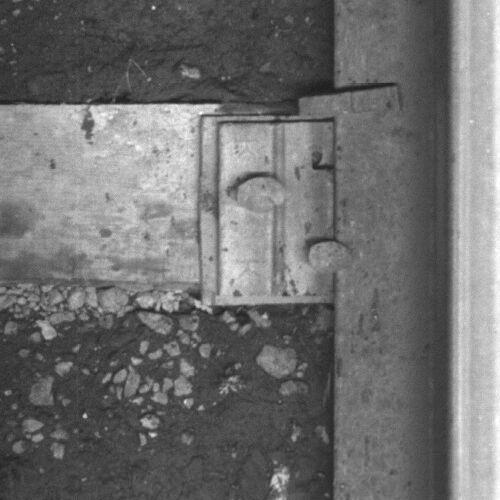crutch: (298, 83, 403, 119)
do: (218, 121, 355, 296)
rail: (449, 1, 500, 500)
tie_wood: (1, 105, 334, 287)
